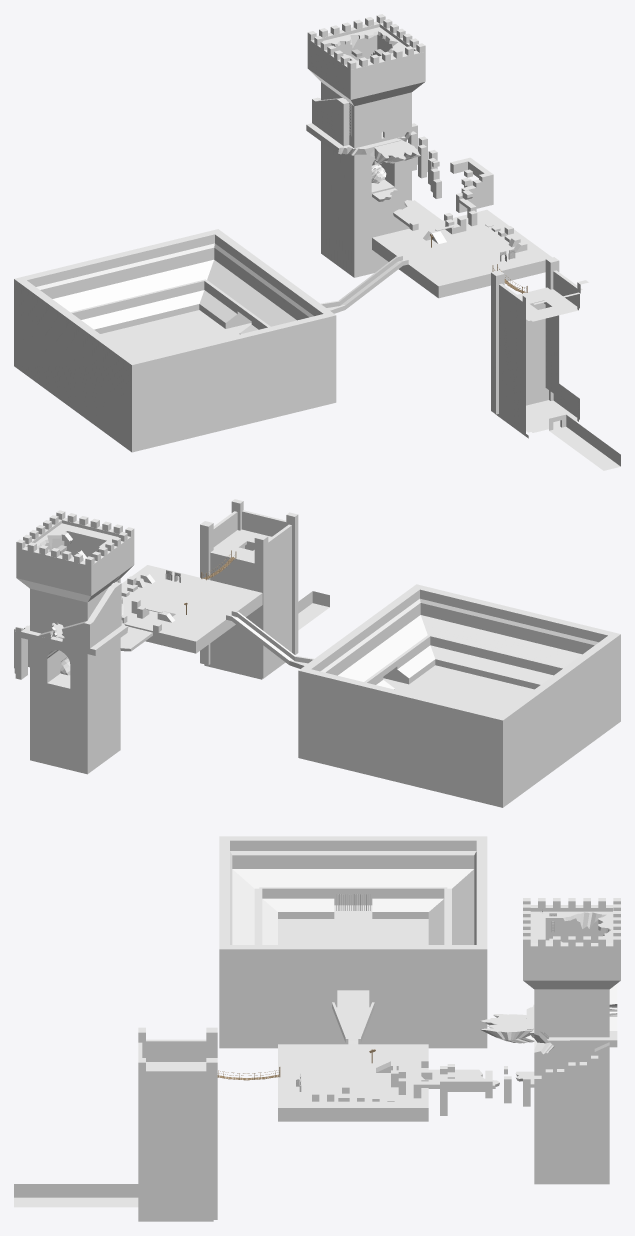
Rendered from testmap.glb.
The picture shows the model from 3 angles, top to bottom: view 1: azimuth 30°, elevation 25°; view 2: azimuth 150°, elevation 25°; view 3: azimuth 270°, elevation 25°; orthographic projection. The views are drawn at different scales.
Visible parts, largest first — view 1: Stairs, ADD[0]9, LevelGeometry, ADD[0]10, ADD[0]8, ADD[0]9.001, ADD[0]26, Tower Jumping Platform, ADD[0]25; view 2: Stairs, ADD[0]9, LevelGeometry, ADD[0]10, ADD[0]9.001, ADD[0]26, ADD[0]25; view 3: Stairs, ADD[0]9, LevelGeometry, ADD[0]10, ADD[0]26, ADD[0]8, Tower Jumping Platform.
Boxes of the visible parts, left/top/right/bottom form: Stairs: left=14, top=229, right=408, bottom=452; ADD[0]9: left=306, top=14, right=425, bottom=277; LevelGeometry: left=491, top=257, right=620, bottom=470; ADD[0]10: left=372, top=209, right=551, bottom=298; ADD[0]8: left=450, top=157, right=493, bottom=231; ADD[0]9.001: left=312, top=97, right=349, bottom=146; ADD[0]26: left=406, top=123, right=441, bottom=198; Tower Jumping Platform: left=370, top=138, right=420, bottom=163; ADD[0]25: left=393, top=200, right=441, bottom=227; Stairs: left=226, top=584, right=620, bottom=807; ADD[0]9: left=16, top=510, right=134, bottom=774; LevelGeometry: left=200, top=499, right=329, bottom=679; ADD[0]10: left=121, top=565, right=262, bottom=653; ADD[0]9.001: left=38, top=582, right=121, bottom=648; ADD[0]26: left=14, top=625, right=29, bottom=679; ADD[0]25: left=120, top=626, right=152, bottom=651; Stairs: left=219, top=836, right=487, bottom=1048; ADD[0]9: left=515, top=898, right=620, bottom=1184; LevelGeometry: left=14, top=1027, right=217, bottom=1221; ADD[0]10: left=278, top=1044, right=428, bottom=1121; ADD[0]26: left=485, top=1042, right=609, bottom=1109; ADD[0]8: left=391, top=1064, right=492, bottom=1115; Tower Jumping Platform: left=480, top=1014, right=534, bottom=1043.
Size of the model in its own units: 160 by 84.01 by 161.
6 materials, 2 textured.
